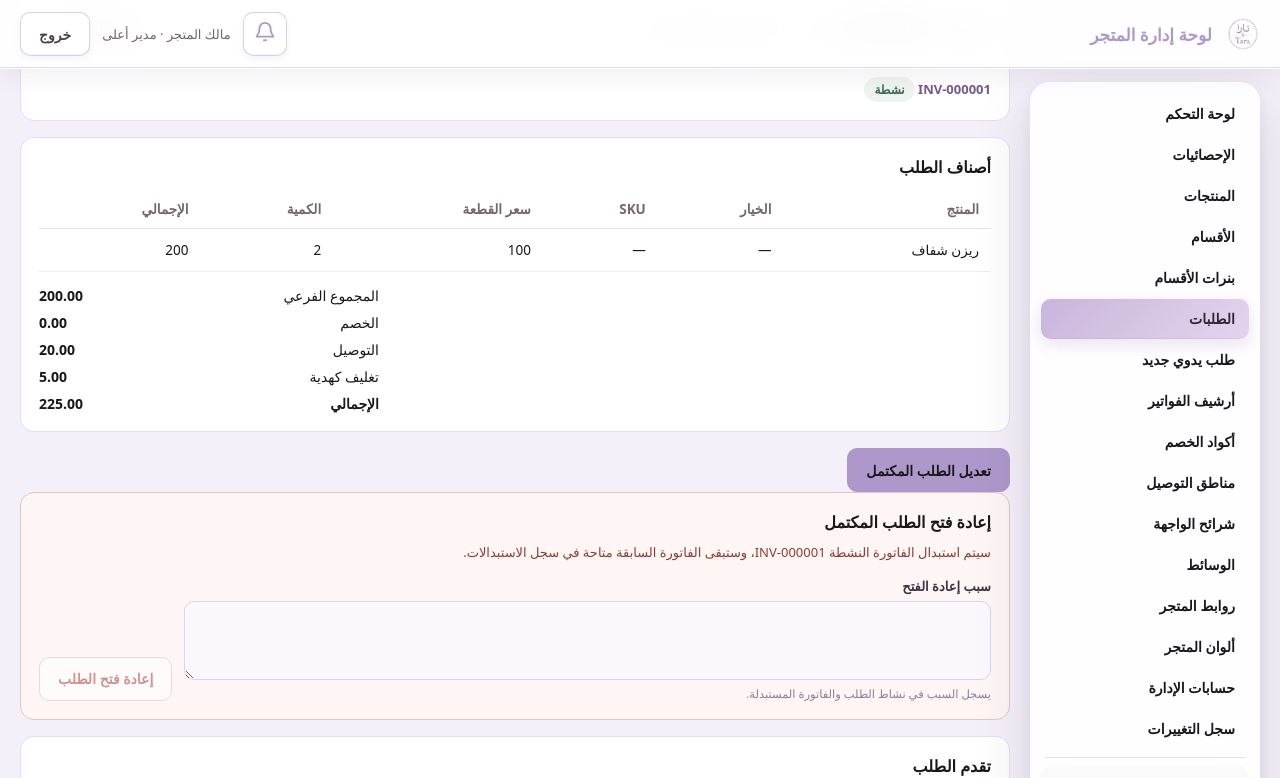
completed order corrections › ignores an old order's delayed negative conflict after navigation
This screenshot has width=1280, height=778.
(page scrolled)
Click the button "تعديل الطلب المكتمل" at (929, 470), box [847,448,1010,492]
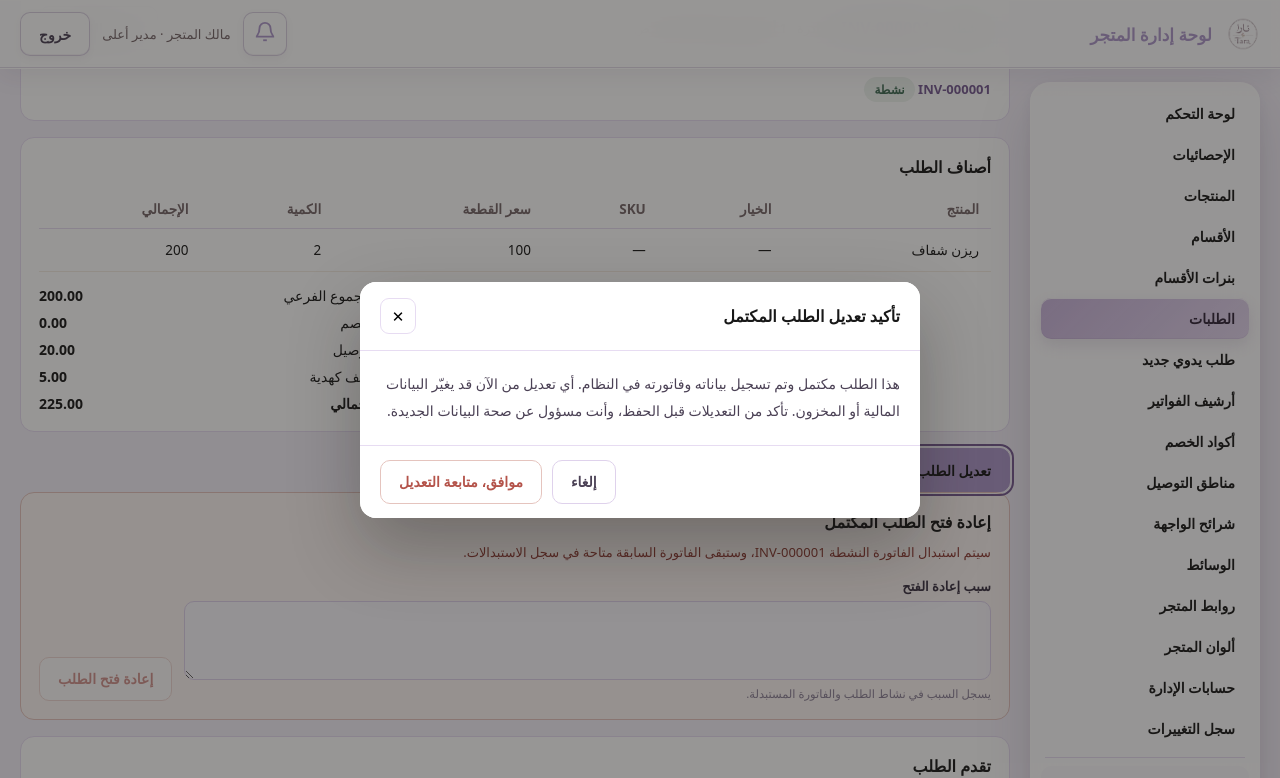
Click the button "موافق، متابعة التعديل" at (461, 482), box [380,460,542,504]
(page scrolled)
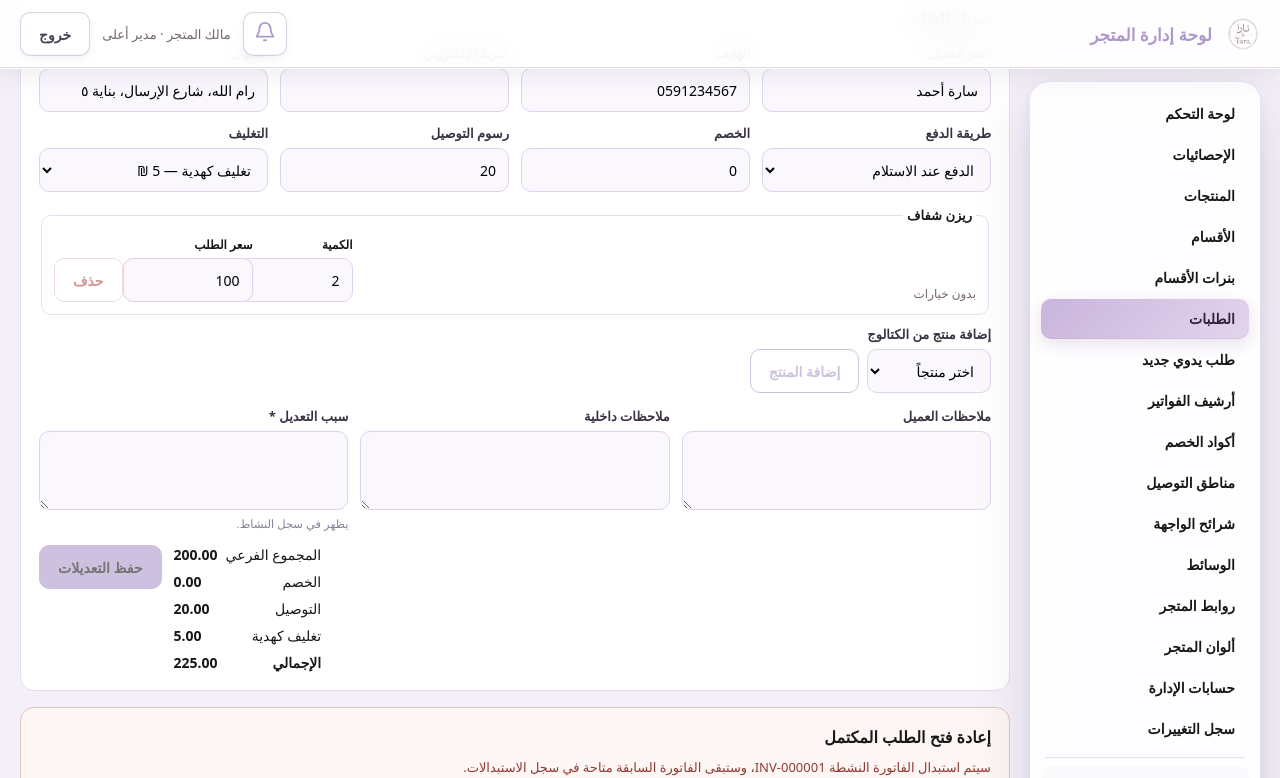
Type "تصحيح" into the text box labelled "سبب التعديل *" at (194, 471), box [39,431,348,510]
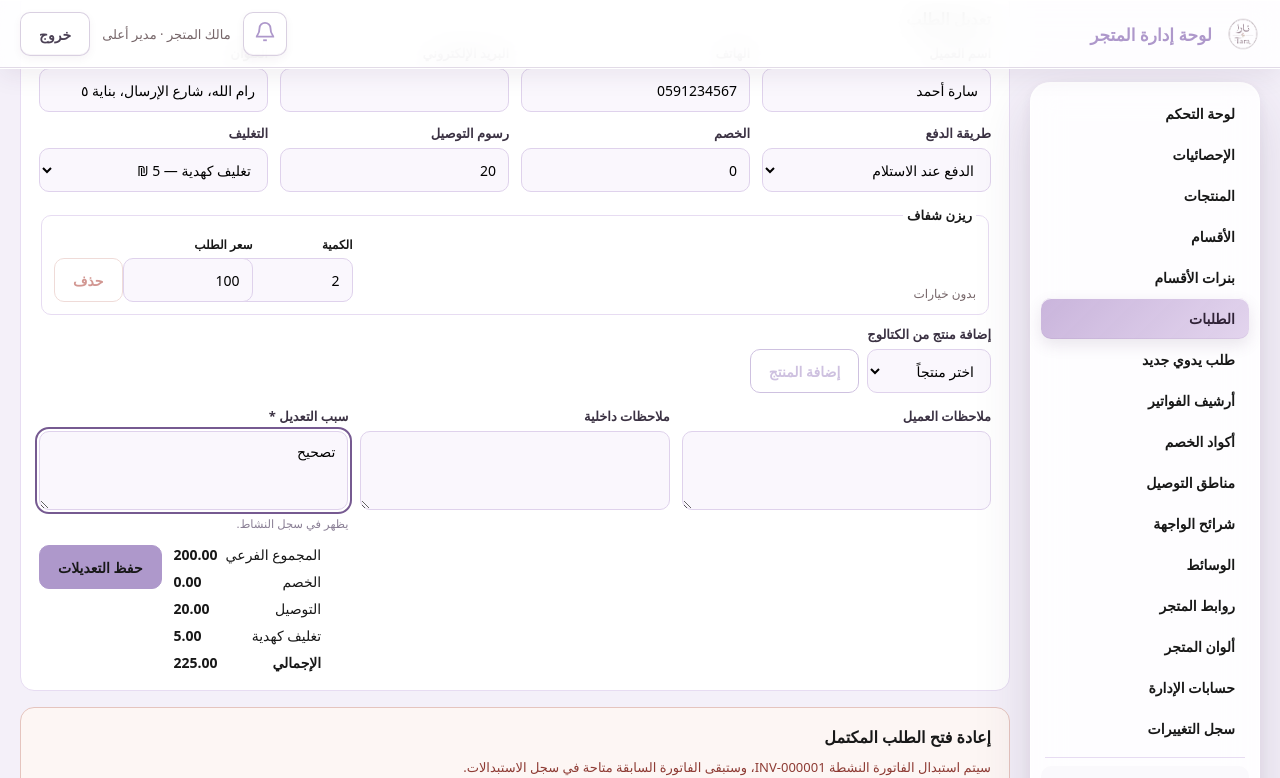
Click the button "حفظ التعديلات" at (100, 567), box [39,545,162,589]
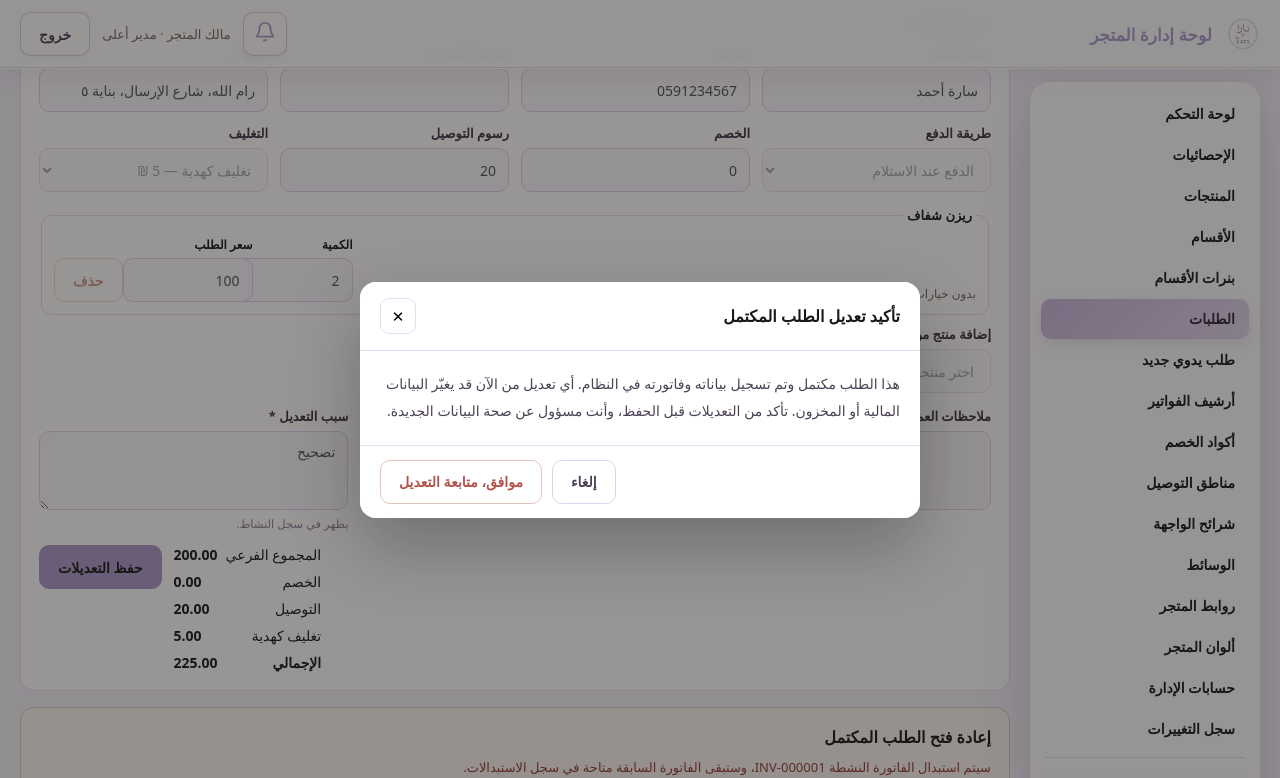
Click the button "موافق، متابعة التعديل" at (461, 482), box [380,460,542,504]
(page scrolled)
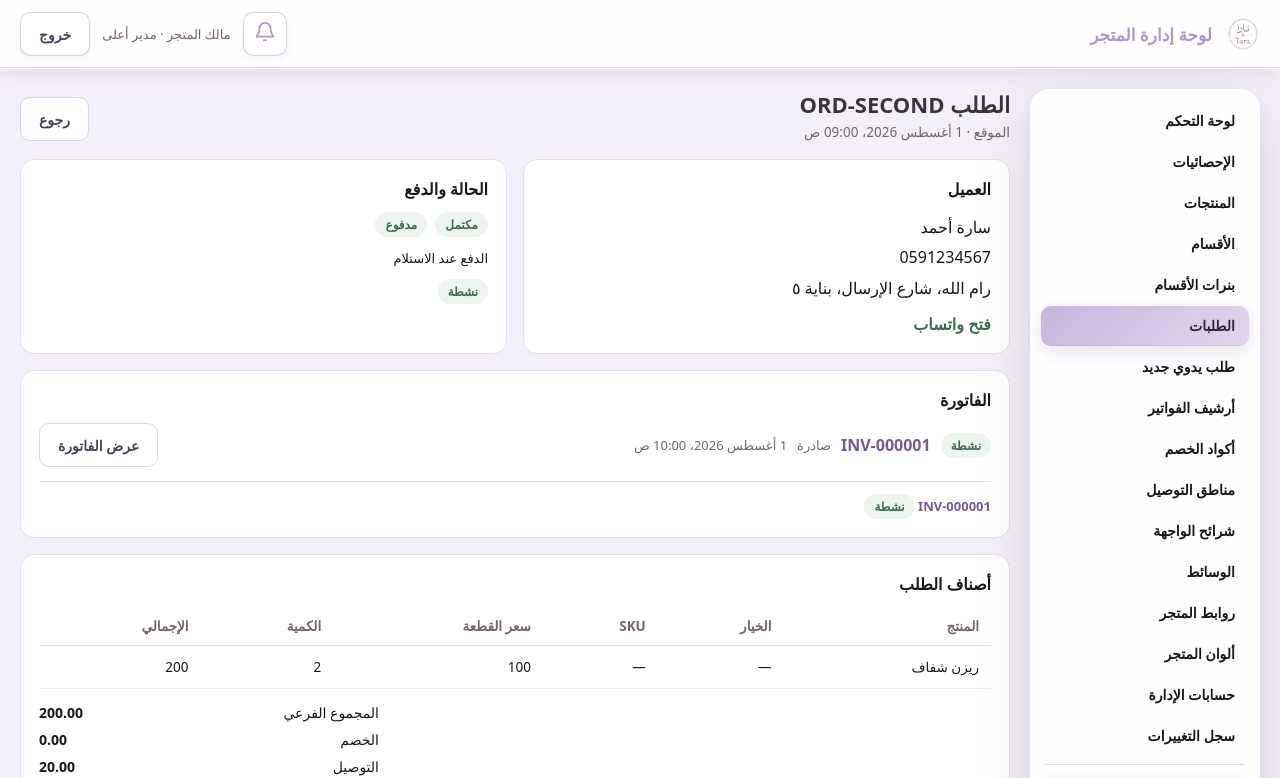
Now the heading "الطلب ORD-SECOND" is shown, box [799,89,1010,119]
